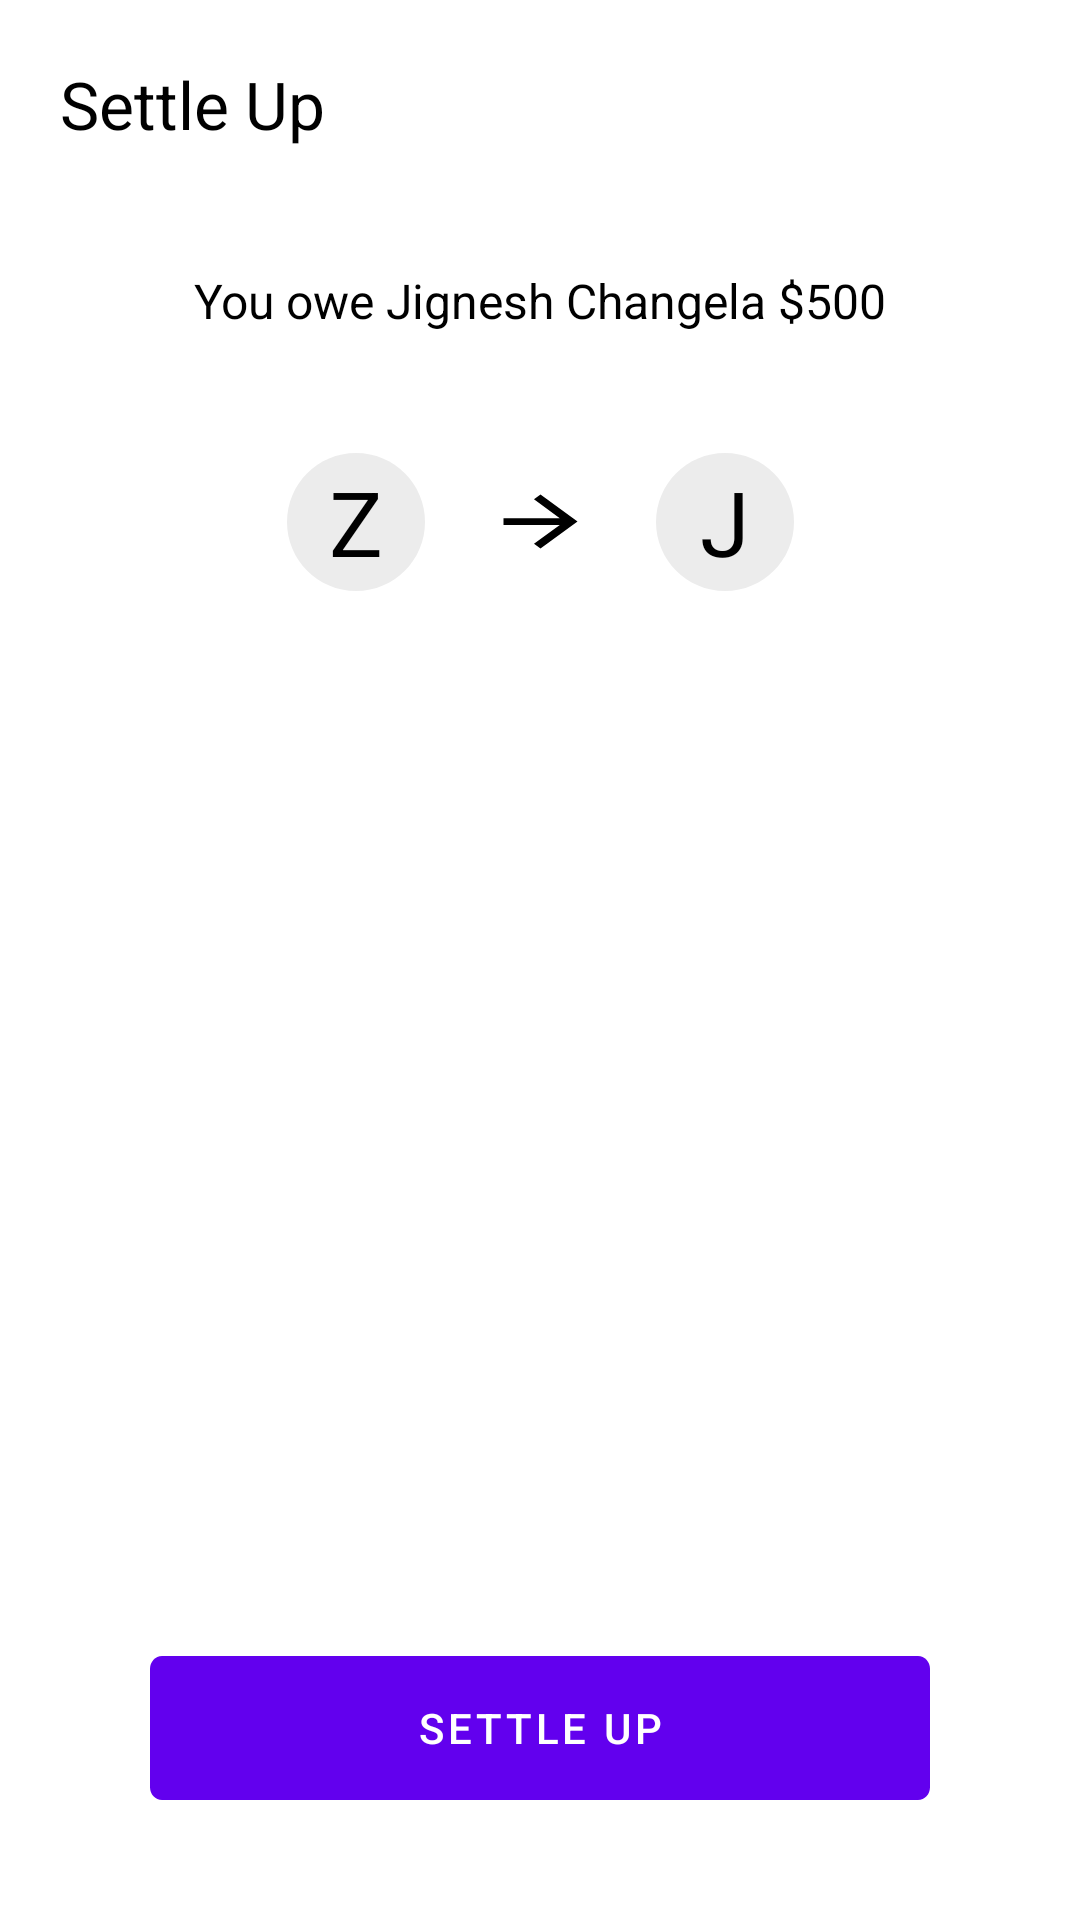

Screen size 1080x1920. Icon name, then its center in pixels as [x,y]:
arrow settle: [540,521]
